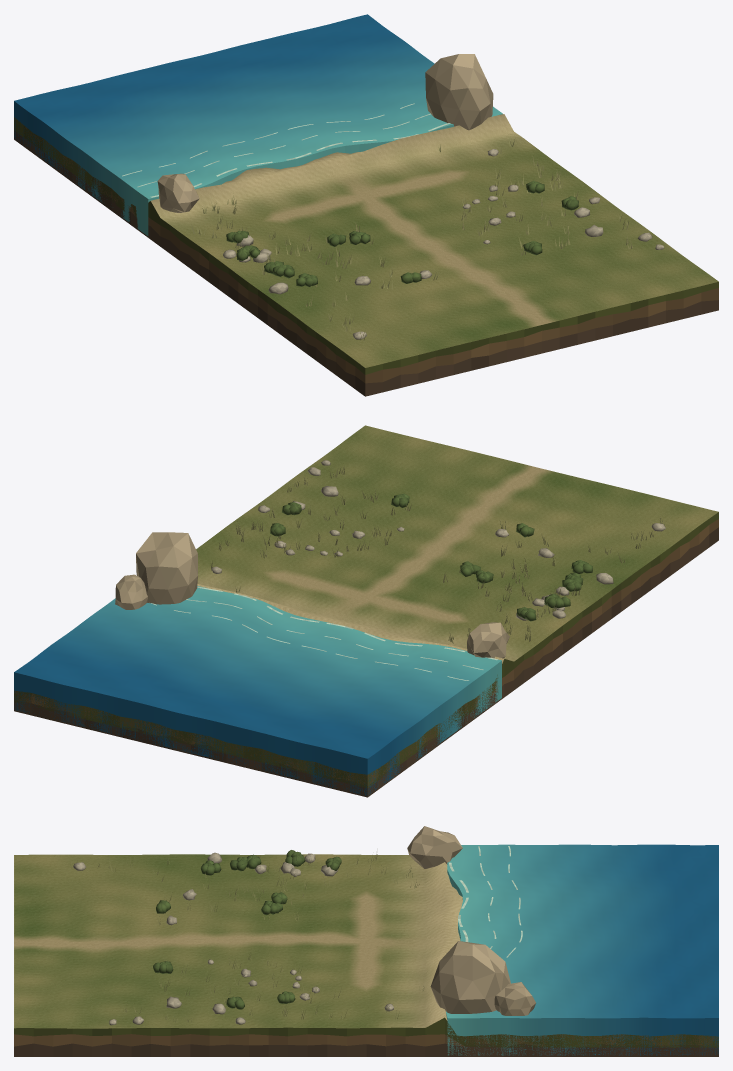
The model's file is littoral_bleu.glb.
3 renders of one model, top to bottom at view 1: azimuth 30°, elevation 25°; view 2: azimuth 150°, elevation 25°; view 3: azimuth 270°, elevation 25°, orthographic.
Visible parts, largest first — view 1: Sol_Littoral, Mer_En_Volume, Coupe_Terre, Cap_Granitique_00, Cap_Granitique_02, Ecume; view 2: Sol_Littoral, Mer_En_Volume, Coupe_Terre, Cap_Granitique_00, Cap_Granitique_02, Cap_Granitique_01, Ecume; view 3: Sol_Littoral, Mer_En_Volume, Coupe_Terre, Cap_Granitique_00, Cap_Granitique_02, Cap_Granitique_01, Ecume.
Part boxes in pixels (x1,y1,x2,y2): Sol_Littoral: [151, 114, 718, 367]; Mer_En_Volume: [14, 14, 502, 235]; Coupe_Terre: [14, 117, 718, 396]; Cap_Granitique_00: [425, 54, 493, 130]; Cap_Granitique_02: [157, 173, 199, 212]; Ecume: [122, 103, 450, 197]; Sol_Littoral: [196, 425, 718, 663]; Mer_En_Volume: [14, 586, 501, 795]; Coupe_Terre: [14, 512, 718, 797]; Cap_Granitique_00: [136, 532, 197, 604]; Cap_Granitique_02: [467, 622, 509, 658]; Cap_Granitique_01: [115, 574, 147, 609]; Ecume: [151, 586, 497, 680]; Sol_Littoral: [14, 854, 462, 1028]; Mer_En_Volume: [446, 844, 718, 1055]; Coupe_Terre: [14, 1017, 718, 1056]; Cap_Granitique_00: [430, 941, 510, 1013]; Cap_Granitique_02: [407, 826, 462, 868]; Cap_Granitique_01: [494, 982, 535, 1015]; Ecume: [449, 846, 522, 957].
Bounding box in the file's own units: 2.82 × 0.7377 × 4.85.
3 materials, 1 textured.
